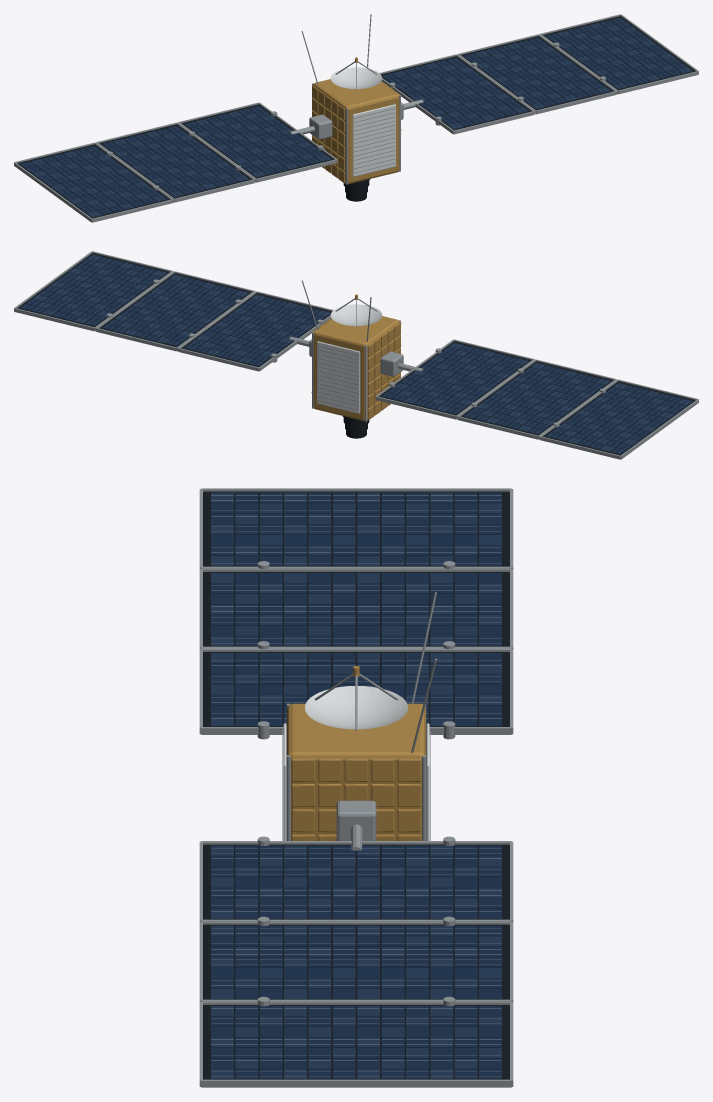
File: observation-satellite.glb
3 views of the same model, one above another, from view 1: azimuth 30°, elevation 25°; view 2: azimuth 150°, elevation 25°; view 3: azimuth 270°, elevation 25° (orthographic). The views are drawn at different scales.
Parts seen in each view (by area): view 1: silicon cells, silicon cells alternate, graphite baffle, anodised aluminium, gold multilayer insulation, ceramic radiator, silver interconnects; view 2: silicon cells, silicon cells alternate, graphite baffle, anodised aluminium, gold multilayer insulation, ceramic radiator, silver interconnects; view 3: silicon cells, silicon cells alternate, graphite baffle, anodised aluminium, gold multilayer insulation, silver interconnects, ceramic radiator.
Part boxes in pixels (x1,y1,x2,y2): silicon cells: (20, 17, 686, 214); silicon cells alternate: (31, 23, 692, 217); graphite baffle: (17, 16, 695, 218); anodised aluminium: (14, 14, 698, 222); gold multilayer insulation: (312, 57, 401, 184); ceramic radiator: (330, 67, 395, 176); silver interconnects: (25, 18, 689, 215); silicon cells: (20, 257, 686, 454); silicon cells alternate: (32, 254, 692, 451); graphite baffle: (17, 253, 695, 455); anodised aluminium: (14, 251, 698, 459); gold multilayer insulation: (311, 294, 401, 421); ceramic radiator: (317, 304, 382, 413); silver interconnects: (23, 255, 687, 452); silicon cells: (211, 492, 501, 1079); silicon cells alternate: (211, 492, 501, 1079); graphite baffle: (203, 491, 509, 1079); anodised aluminium: (199, 488, 513, 1087); gold multilayer insulation: (287, 666, 425, 840); silver interconnects: (211, 495, 501, 1076); ceramic radiator: (283, 686, 429, 840).
Bounding box in the file's own units: 10.59 × 2.67 × 2.37.
